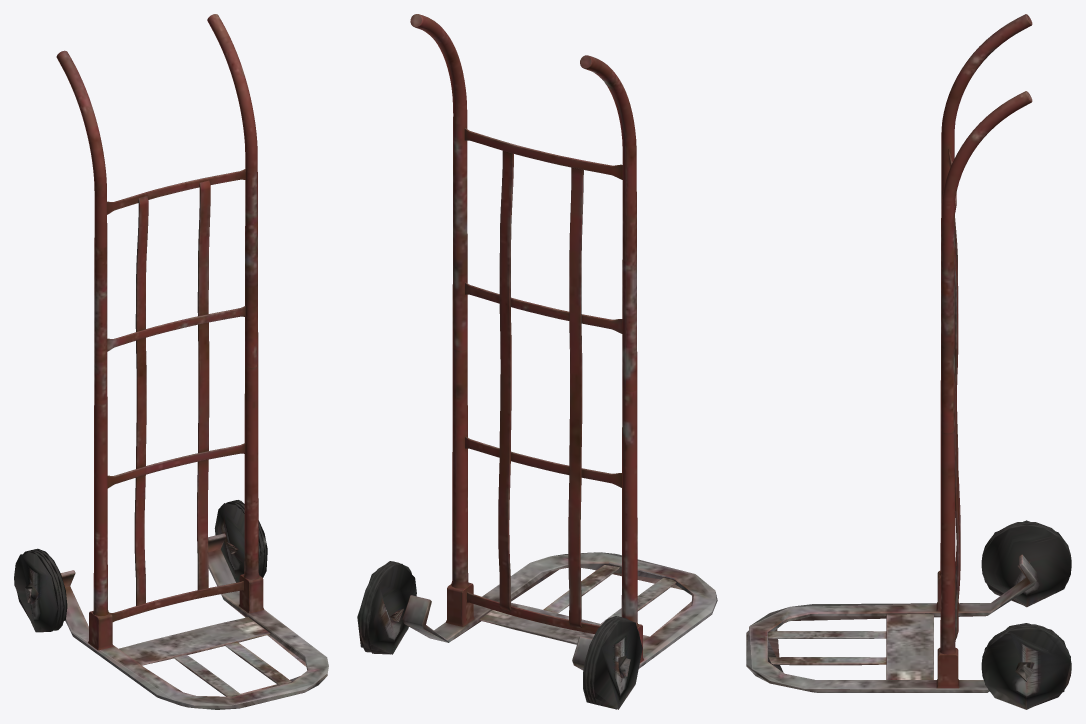
The model's file is handTruck_lo.glb.
3 views of the same model, side by side, from view 1: azimuth 30°, elevation 25°; view 2: azimuth 150°, elevation 25°; view 3: azimuth 270°, elevation 25° (orthographic). The views are drawn at different scales.
Parts seen in each view (by area): view 1: hand_truck; view 2: hand_truck; view 3: hand_truck.
Boxes of the visible parts, bbox=[...] form: hand_truck: bbox=[14, 14, 328, 709]; hand_truck: bbox=[357, 14, 717, 709]; hand_truck: bbox=[746, 14, 1071, 709].
Size of the model in its own units: 0.5789 by 1.4 by 0.6876.
1 material, 1 textured.
